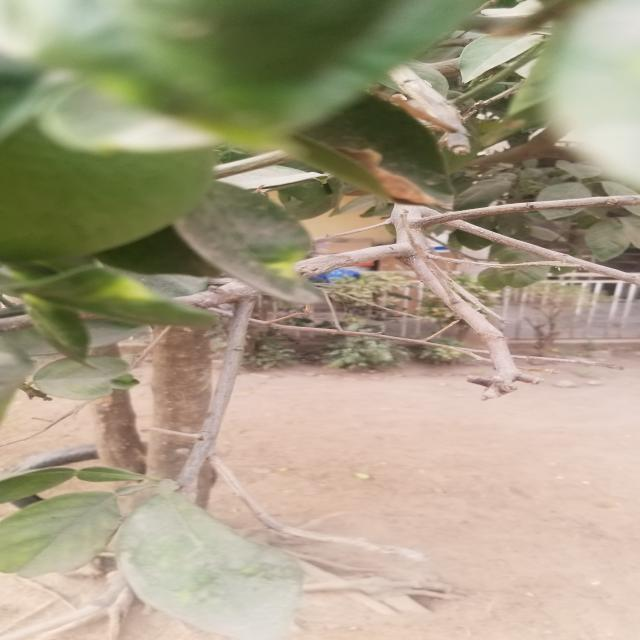Unripe: (13, 63, 232, 270)
